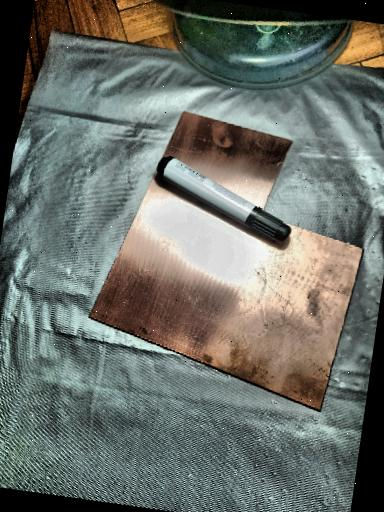marcador negro: (157, 156, 290, 243)
